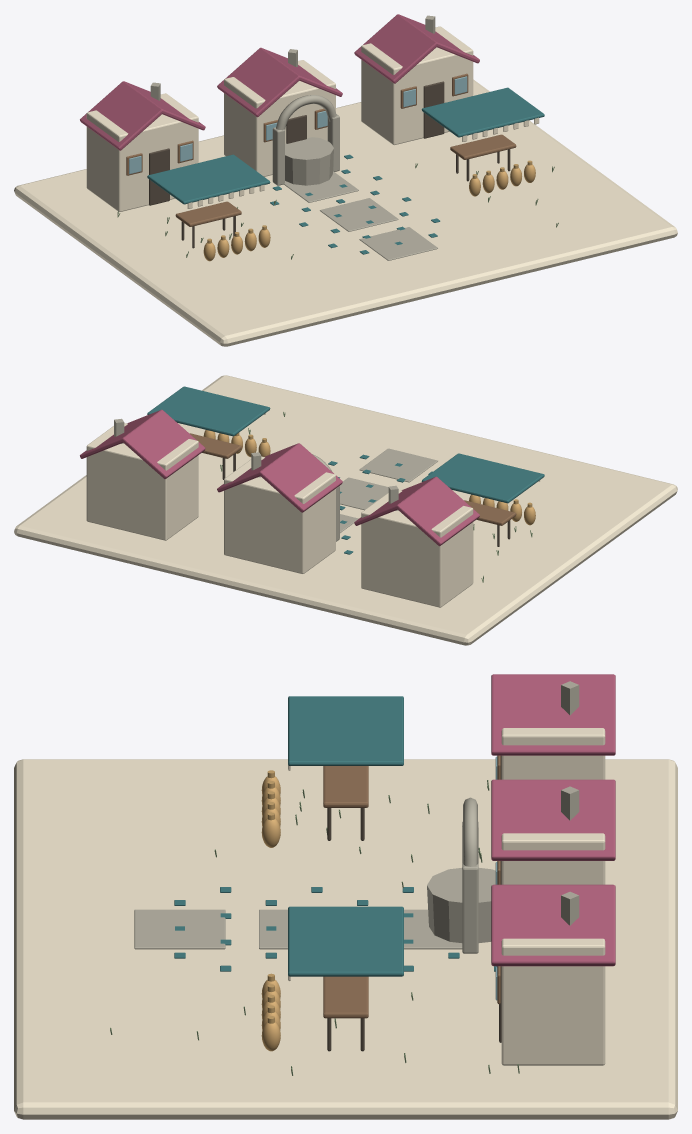
File: ala_market-W3gY4Kcz.glb
3 renders of one model, top to bottom at view 1: azimuth 30°, elevation 25°; view 2: azimuth 150°, elevation 25°; view 3: azimuth 270°, elevation 25°, orthographic. The views are drawn at different scales.
Visible parts, largest first — view 1: world_cream.043, world_rose.043, world_stone.043, world_Story primary.018, world_wood.043, world_darkwood.043, world_bread.043, world_sky.043; view 2: world_cream.043, world_rose.043, world_Story primary.018, world_stone.043, world_wood.043, world_bread.043; view 3: world_cream.043, world_rose.043, world_Story primary.018, world_stone.043, world_wood.043, world_bread.043, world_darkwood.043.
Part boxes in pixels (bbox=[...]): world_cream.043: bbox=[14, 26, 677, 346]; world_rose.043: bbox=[80, 14, 479, 150]; world_stone.043: bbox=[150, 15, 437, 260]; world_Story primary.018: bbox=[147, 87, 544, 254]; world_wood.043: bbox=[126, 73, 516, 226]; world_darkwood.043: bbox=[149, 81, 510, 248]; world_bread.043: bbox=[203, 164, 535, 261]; world_sky.043: bbox=[129, 76, 467, 174]; world_cream.043: bbox=[14, 375, 677, 645]; world_rose.043: bbox=[80, 409, 479, 546]; world_Story primary.018: bbox=[147, 386, 544, 554]; world_stone.043: bbox=[114, 418, 437, 541]; world_wood.043: bbox=[189, 433, 516, 525]; world_bread.043: bbox=[203, 430, 535, 525]; world_cream.043: bbox=[14, 728, 677, 1119]; world_rose.043: bbox=[491, 674, 615, 966]; world_Story primary.018: bbox=[174, 696, 497, 976]; world_stone.043: bbox=[134, 681, 579, 953]; world_wood.043: bbox=[323, 755, 500, 1018]; world_bread.043: bbox=[261, 776, 280, 1051]; world_darkwood.043: bbox=[327, 755, 501, 1051].
Bounding box in the file's own units: 20 × 4.56 × 16.
